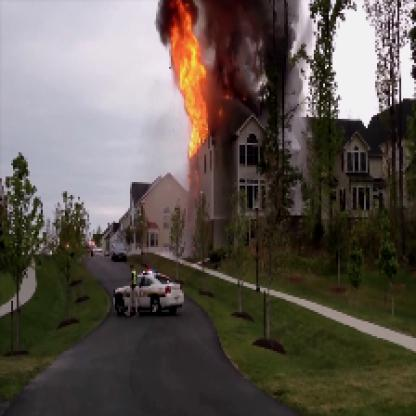Fire: (165, 2, 219, 158)
Smoke: (201, 2, 299, 115)
